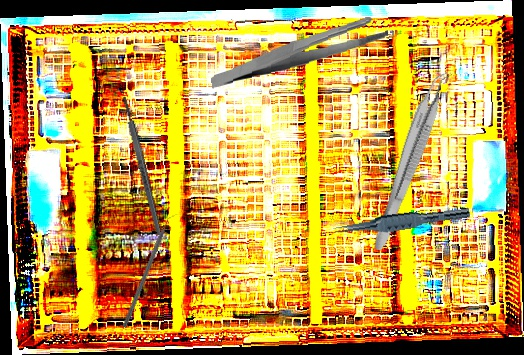Chopper: (121, 210, 180, 331)
Dressing Forceps: (208, 16, 391, 89)
Scalpel Handle: (120, 96, 164, 236)
Tissue Forceps: (370, 66, 454, 256), (332, 200, 471, 242)
